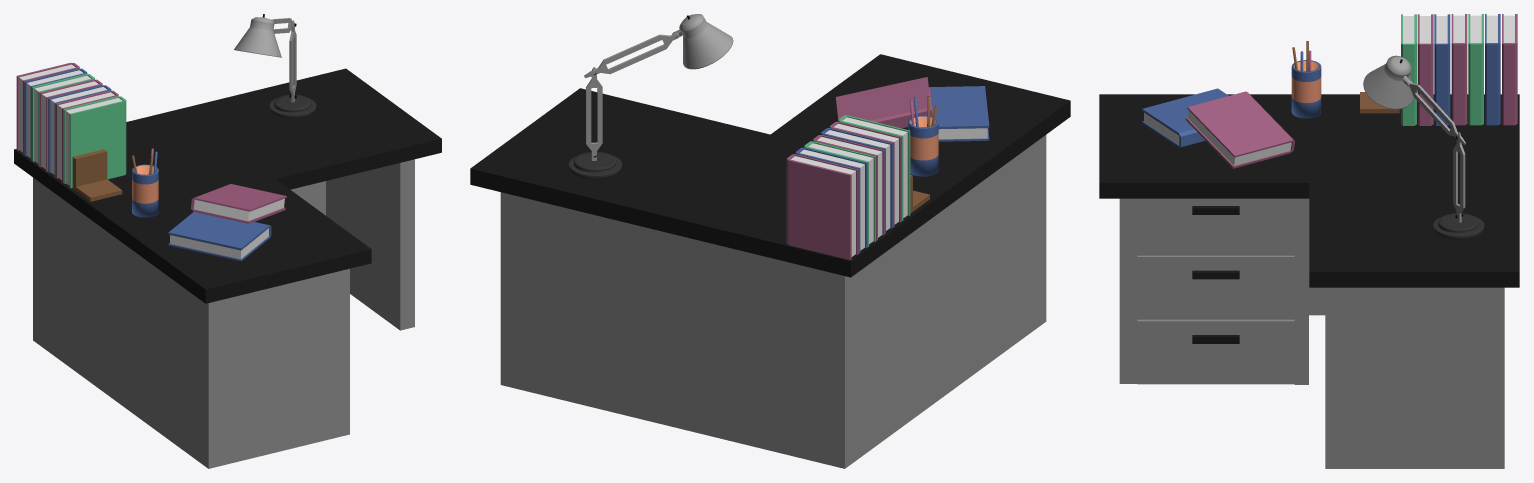
The model's file is Escritorio en L pieza Carlitos.fbx.
3 renders of one model, left to right at view 1: azimuth 30°, elevation 25°; view 2: azimuth 150°, elevation 25°; view 3: azimuth 270°, elevation 25°, orthographic. The views are drawn at different scales.
Visible parts, largest first — view 1: Escritorio en L; view 2: Escritorio en L; view 3: Escritorio en L.
Part boxes in pixels (x1=…): Escritorio en L: x1=14, y1=14, x2=441, y2=468; Escritorio en L: x1=470, y1=14, x2=1070, y2=468; Escritorio en L: x1=1099, y1=14, x2=1519, y2=468.
Size of the model in its own units: 142 by 129 by 142.
